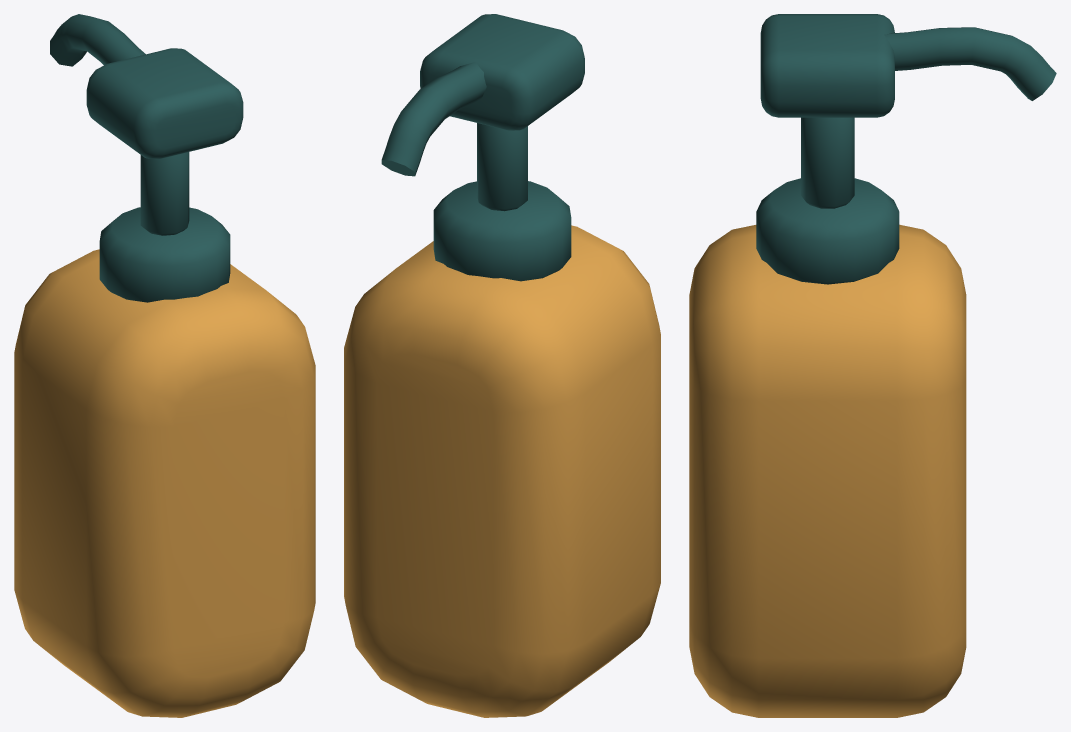
The model's file is lotion.glb.
3 views of the same model, side by side, from view 1: azimuth 30°, elevation 25°; view 2: azimuth 150°, elevation 25°; view 3: azimuth 270°, elevation 25° (orthographic). The views are drawn at different scales.
Parts seen in each view (by area): view 1: Bottle, Pump, Collar, Stem, Nozzle; view 2: Bottle, Pump, Collar, Nozzle, Stem; view 3: Bottle, Pump, Collar, Nozzle, Stem.
Boxes of the visible parts, x1,y1,x2,y2 form: Bottle: (14,249,315,717); Pump: (86,48,243,159); Collar: (99,207,230,302); Stem: (140,152,189,235); Nozzle: (50,14,145,66); Bottle: (344,225,660,717); Pump: (420,14,584,130); Collar: (433,181,571,281); Nozzle: (381,62,486,176); Stem: (477,123,527,211); Bottle: (689,224,966,717); Pump: (760,14,894,117); Collar: (756,178,899,284); Nozzle: (884,27,1056,100); Stem: (801,117,854,208).
Bounding box in the file's own units: 0.062 × 0.1644 × 0.0822.
